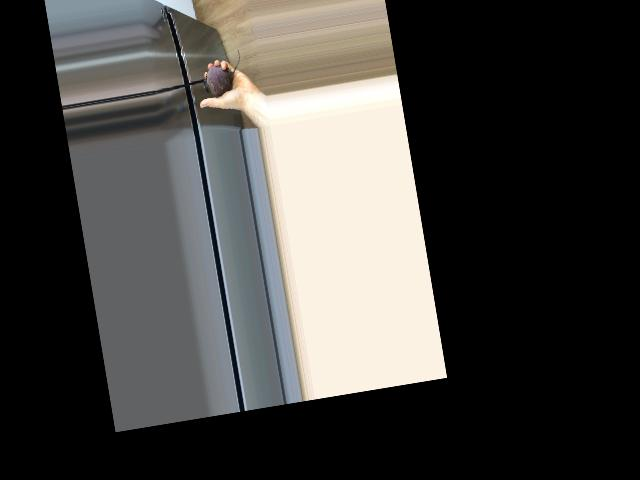beet: (198, 48, 245, 98)
